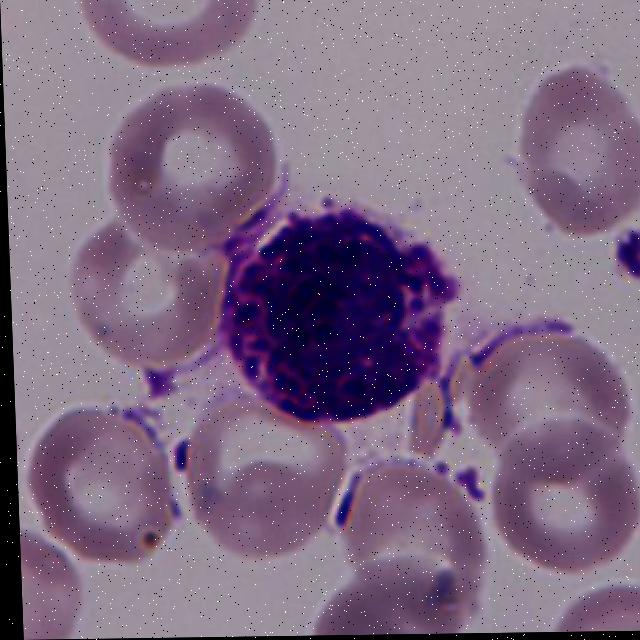platelets: (609, 221, 640, 295)
rbc: (103, 83, 288, 257), (343, 415, 503, 601), (67, 226, 227, 381), (503, 66, 640, 241), (26, 410, 187, 554), (491, 425, 635, 571), (183, 399, 326, 541), (480, 326, 639, 448), (303, 551, 466, 636), (70, 0, 266, 56), (561, 572, 640, 632)
